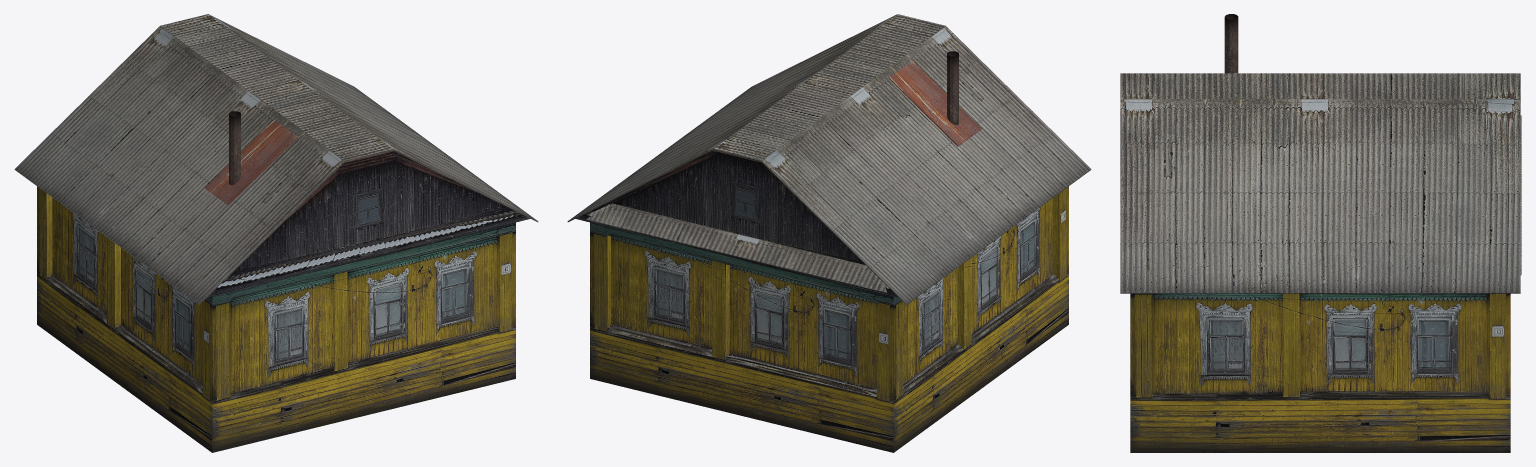
The model's file is ru_village_hut_3.obj.
3 renders of one model, left to right at view 1: azimuth 30°, elevation 25°; view 2: azimuth 150°, elevation 25°; view 3: azimuth 270°, elevation 25°, orthographic. The views are drawn at different scales.
Visible parts, largest first — view 1: ru_village_hut_2; view 2: ru_village_hut_2; view 3: ru_village_hut_2.
Part boxes in pixels (x1,y1,x2,y2): ru_village_hut_2: (14, 14, 538, 452); ru_village_hut_2: (567, 14, 1091, 452); ru_village_hut_2: (1120, 14, 1521, 452).
Bounding box in the file's own units: 7.77 × 6.3 × 7.33.
1 material, 1 textured.
